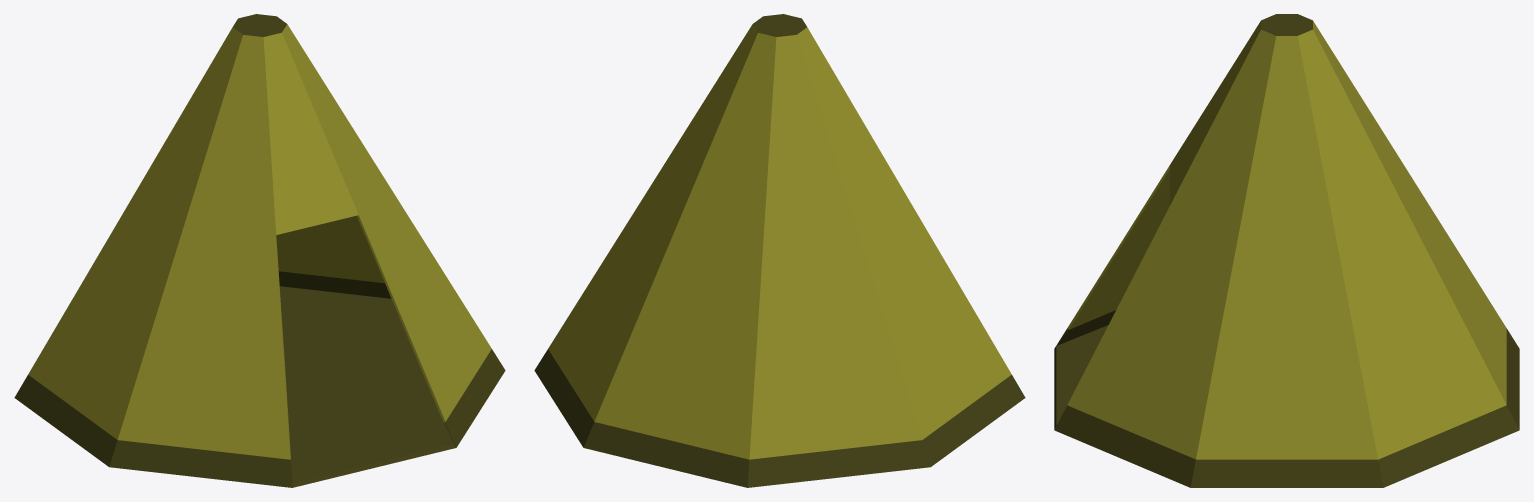
Rendered from Tent_3_Yellow.fbx.
The picture shows the model from 3 angles, left to right: view 1: azimuth 30°, elevation 25°; view 2: azimuth 150°, elevation 25°; view 3: azimuth 270°, elevation 25°; orthographic projection.
Visible parts, largest first — view 1: Tent_2_Yellow; view 2: Tent_2_Yellow; view 3: Tent_2_Yellow.
Part boxes in pixels (bbox=[...]): Tent_2_Yellow: bbox=[14, 14, 505, 487]; Tent_2_Yellow: bbox=[534, 14, 1025, 487]; Tent_2_Yellow: bbox=[1054, 14, 1519, 487].
Bounding box in the file's own units: 240 × 208 × 240.
